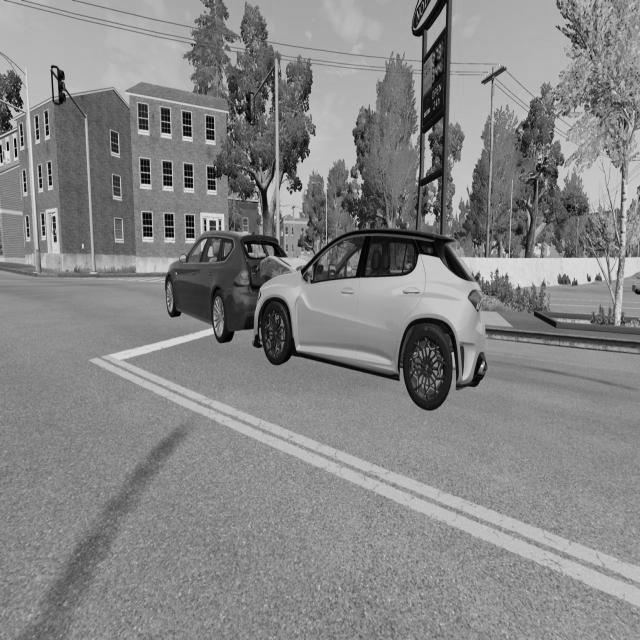accident: (165, 226, 491, 418)
